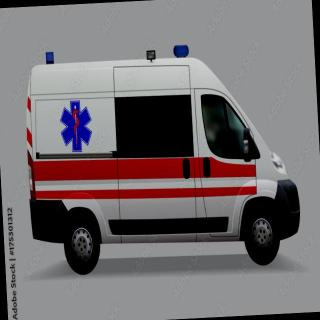Ambulance: (19, 24, 304, 305)
